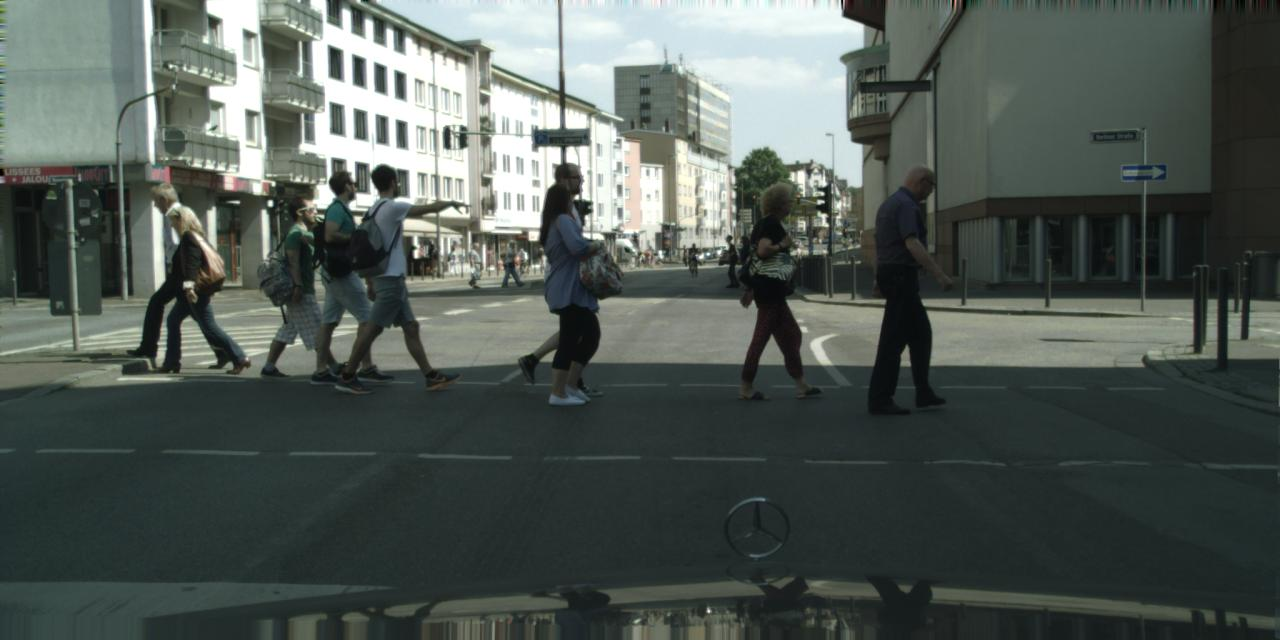ped: (864, 162, 964, 409), (514, 160, 608, 390), (341, 162, 435, 390), (516, 182, 606, 406), (738, 182, 826, 399), (302, 170, 390, 382), (266, 193, 342, 378), (136, 183, 210, 363), (157, 206, 224, 372), (735, 236, 757, 290), (720, 234, 740, 287), (502, 240, 522, 286), (464, 242, 482, 287), (425, 243, 437, 275), (447, 245, 459, 275), (407, 246, 418, 274), (430, 248, 440, 276), (688, 242, 698, 270), (516, 248, 526, 270), (680, 243, 689, 266), (635, 246, 643, 265), (656, 247, 663, 267), (644, 248, 650, 266), (649, 254, 654, 268), (822, 248, 827, 260), (647, 245, 652, 257)
